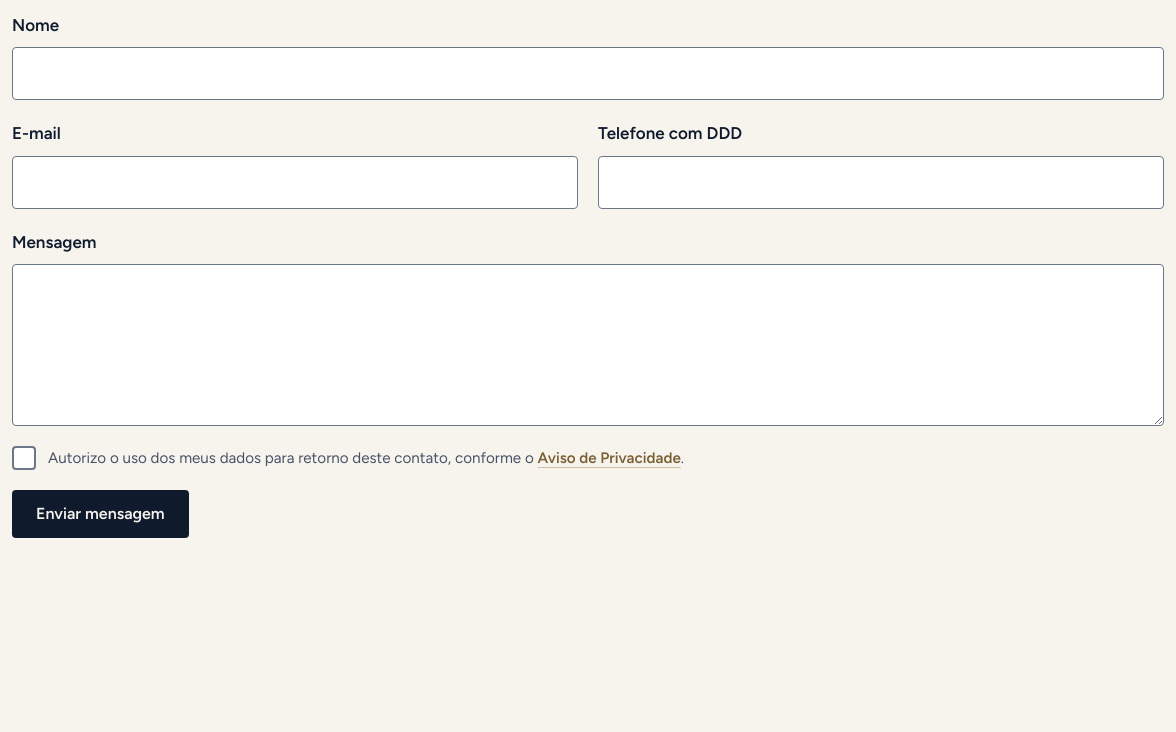
Scenario: ContactForm › bloqueia o envio sem consentimento LGPD
The width and height of the screenshot is (1176, 732).
Type "Pessoa de Teste" into the field labelled "Nome" at (588, 74), box left=12, top=47, right=1164, bottom=100
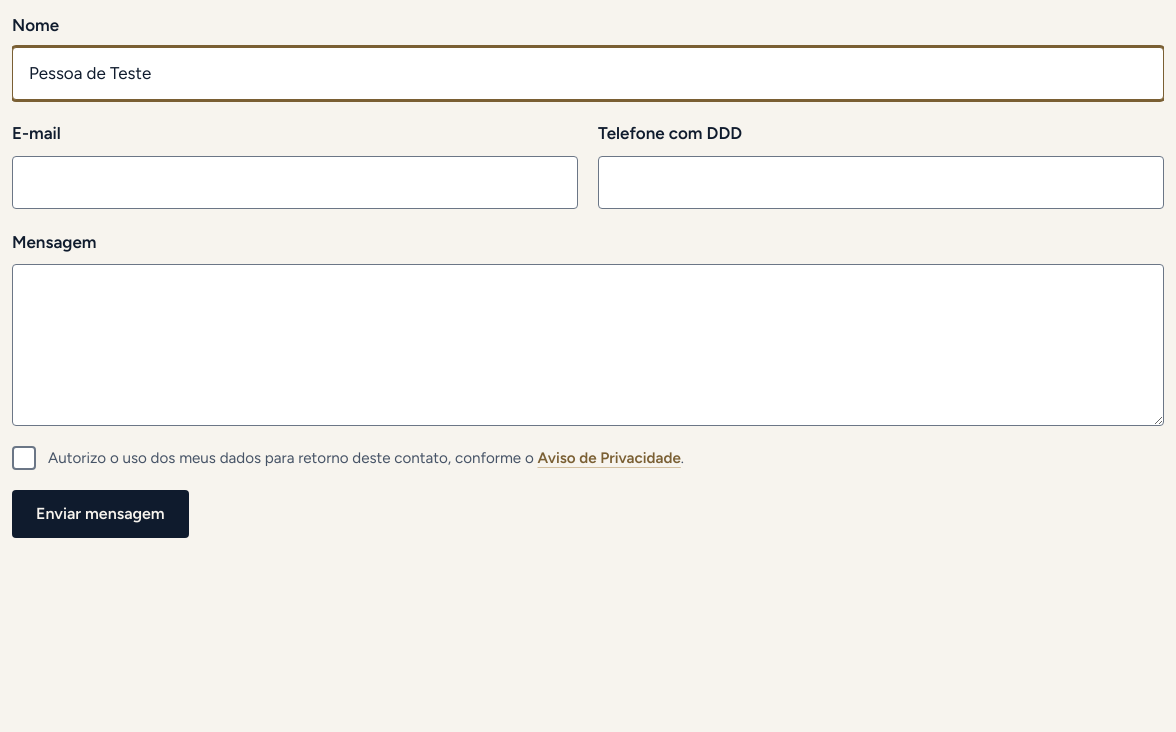
Type "pessoa@teste.example" into the field labelled "E-mail" at (295, 182), box left=12, top=156, right=578, bottom=209
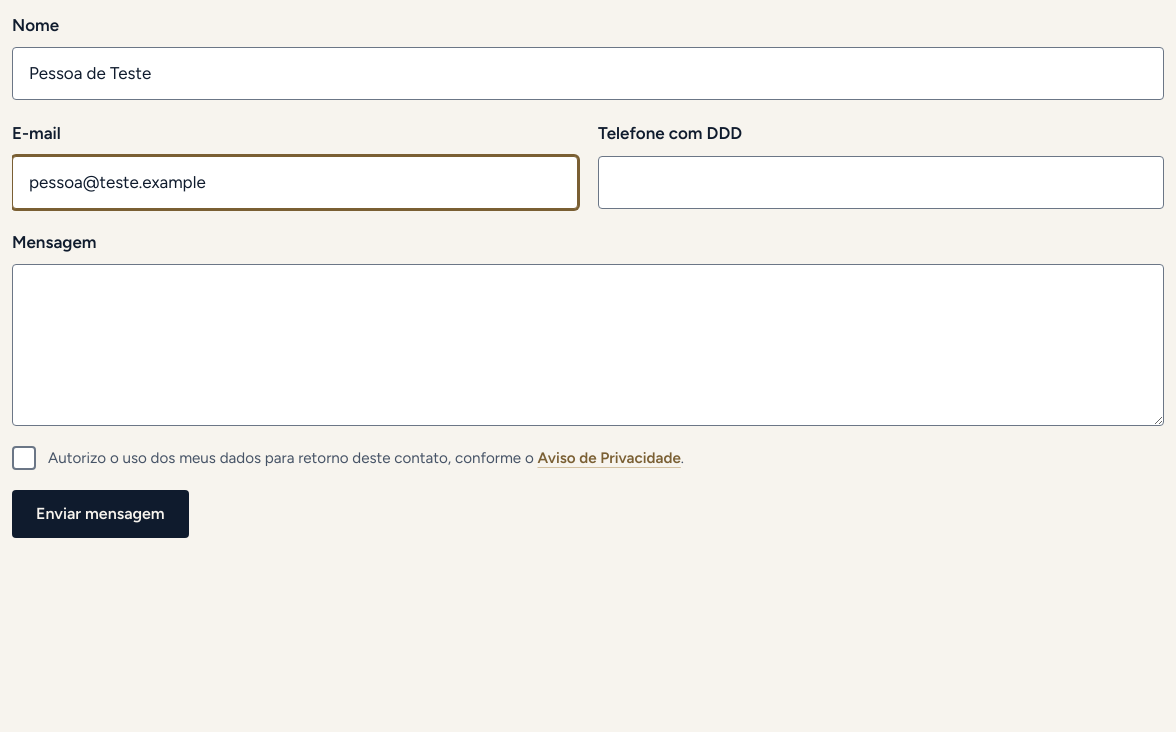
Type "(00) 90000-0000" into the field labelled "Telefone com DDD" at (881, 182), box left=598, top=156, right=1164, bottom=209
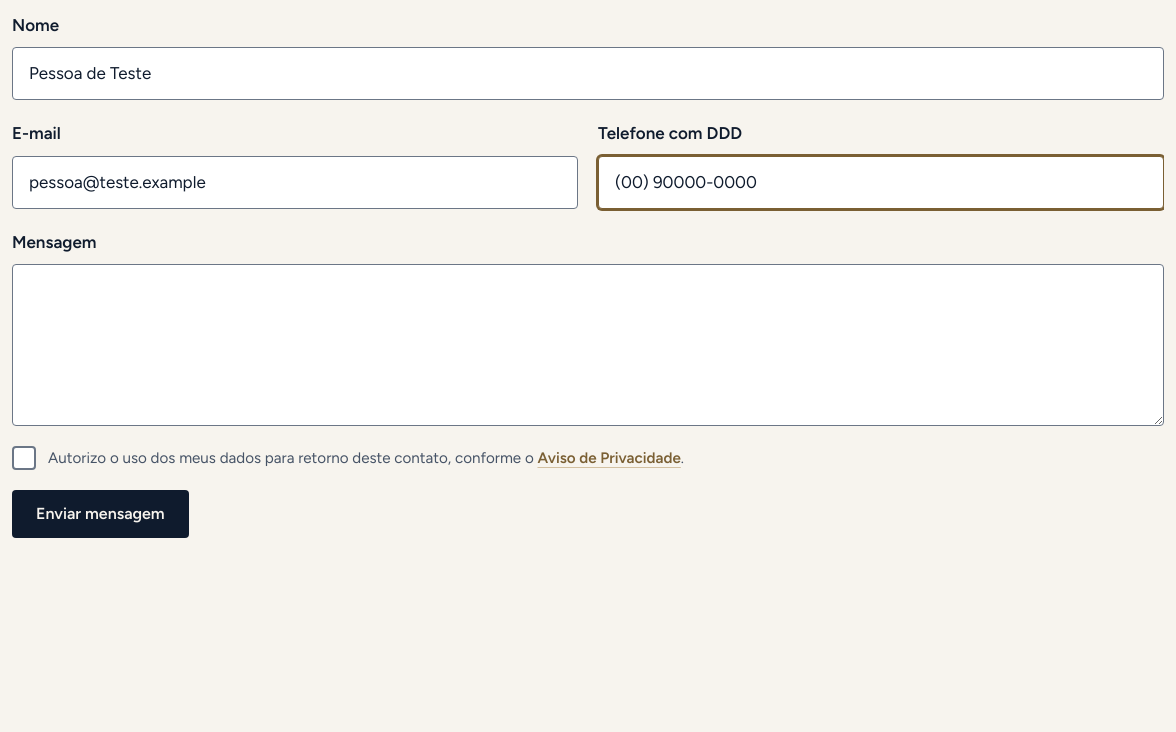
Type "Gostaria de agendar uma consulta." into the text box labelled "Mensagem" at (588, 345), box left=12, top=264, right=1164, bottom=426
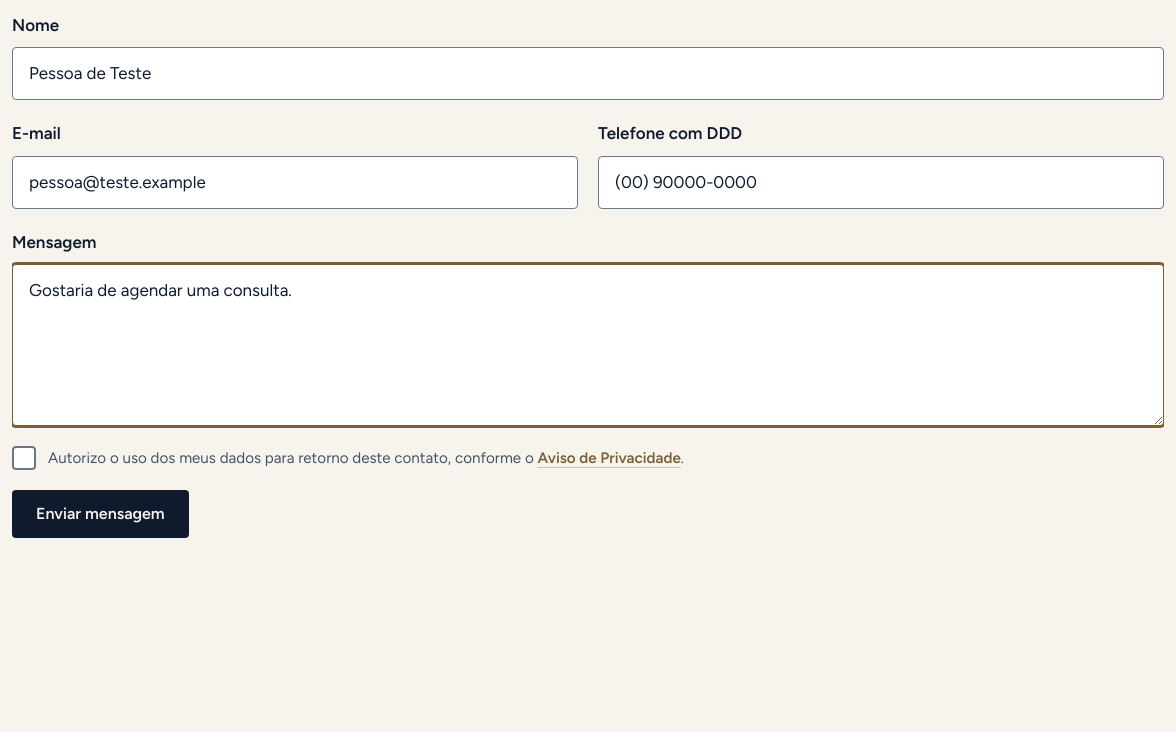
Click the button "Enviar mensagem" at (100, 514), box left=12, top=490, right=189, bottom=538
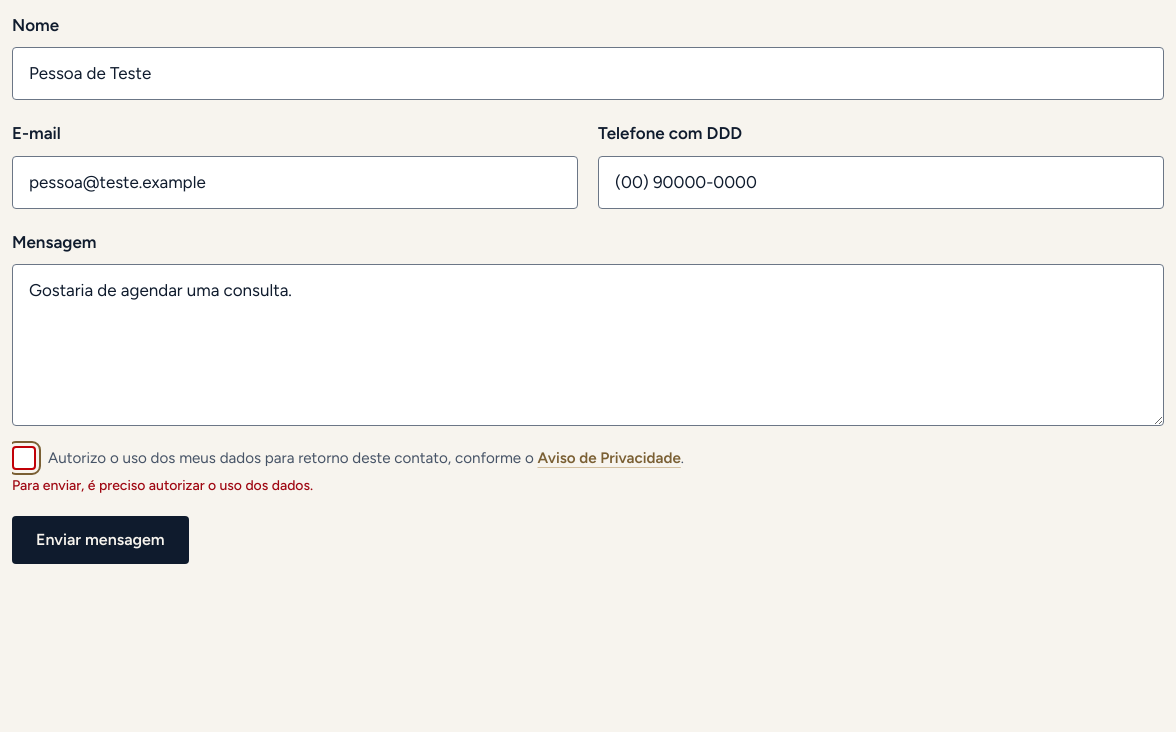
Check: the text "Para enviar, é preciso autorizar o uso dos dados." is shown, box left=12, top=477, right=313, bottom=494
